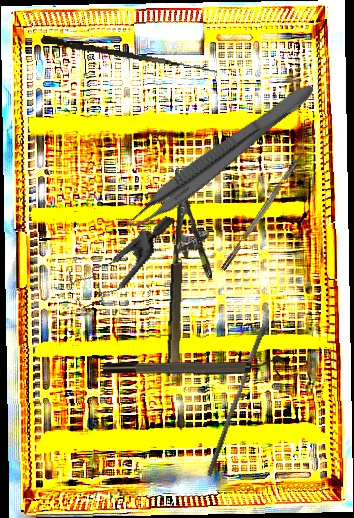Chopper: (215, 141, 311, 271)
Fixation Ring: (103, 351, 284, 381)
Hook Surgical: (41, 35, 219, 73)
Needle Holder: (164, 170, 218, 378)
Pusher: (205, 325, 267, 479)
Speculum: (59, 192, 175, 327)
Tissue Forceps: (115, 70, 318, 243)
